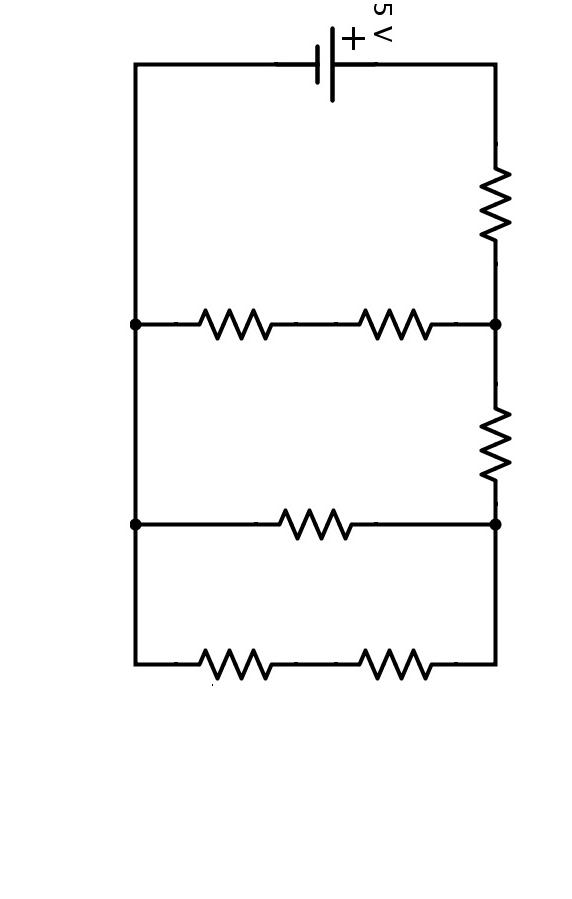resistor: (161, 620, 300, 698), (185, 277, 309, 358), (339, 630, 475, 688), (467, 134, 528, 253), (261, 484, 387, 540), (470, 370, 523, 484)
